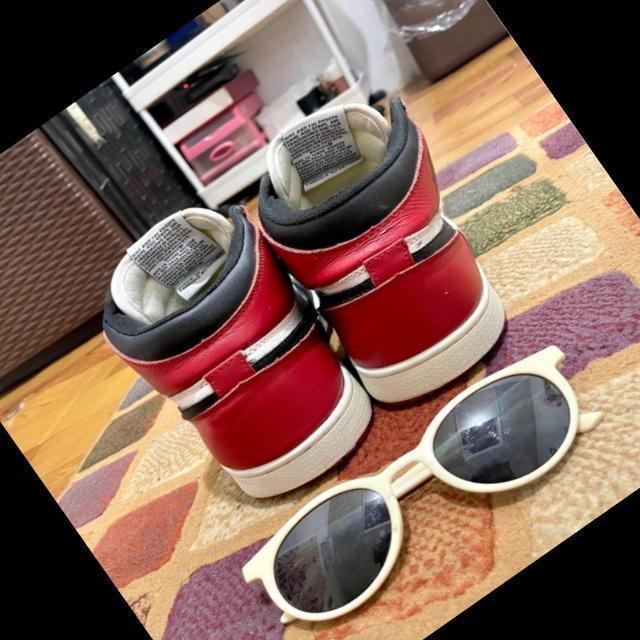nike fake jordan 1: (216, 61, 558, 426), (69, 170, 406, 534)
